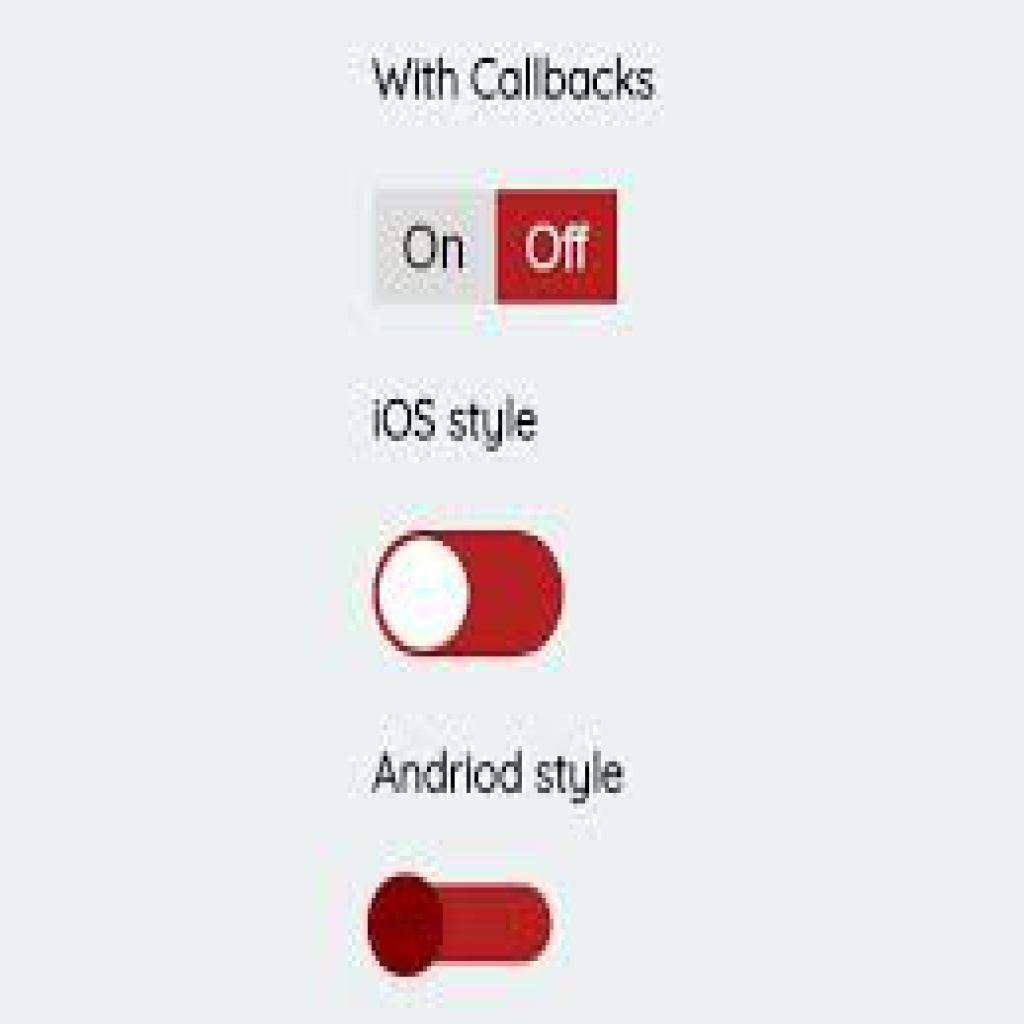switch: (372, 189, 618, 302), (375, 531, 564, 658), (367, 878, 552, 975)
